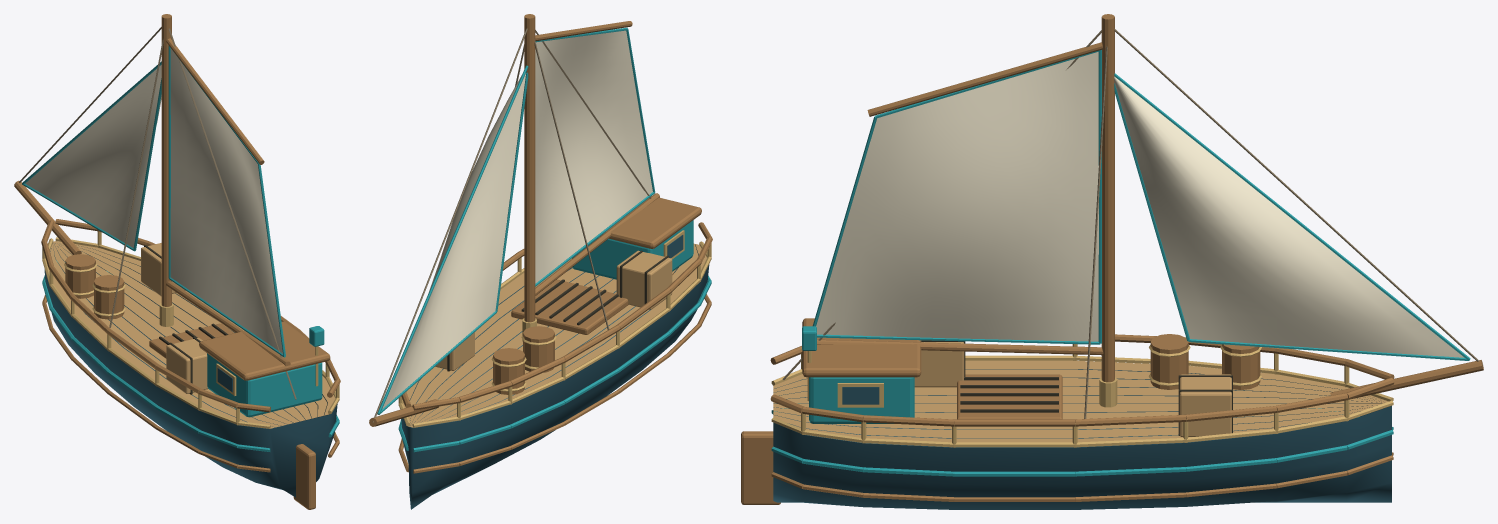
Rendered from starter_sloop.glb.
The picture shows the model from 3 angles, left to right: view 1: azimuth 30°, elevation 25°; view 2: azimuth 150°, elevation 25°; view 3: azimuth 270°, elevation 25°; orthographic projection. The views are drawn at different scales.
Visible parts, largest first — view 1: Sloop curved hull; view 2: Sloop curved hull; view 3: Sloop curved hull.
Part boxes in pixels (left/top/right/bottom): Sloop curved hull: left=14, top=14, right=340, bottom=509; Sloop curved hull: left=369, top=14, right=712, bottom=509; Sloop curved hull: left=741, top=14, right=1483, bottom=509.
Bounding box in the file's own units: 2.12 × 5.34 × 7.38.
